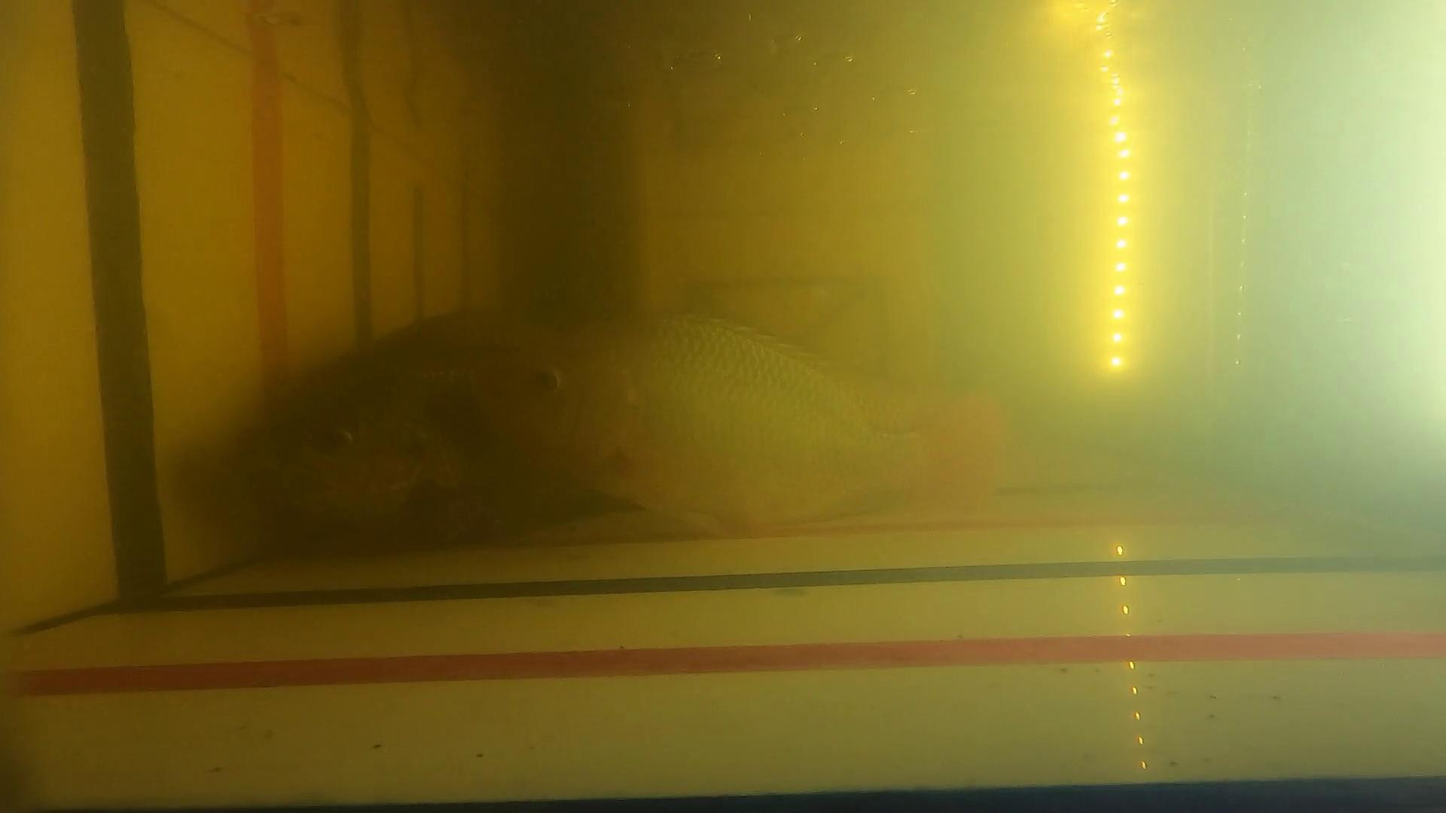Tilapia: (484, 312, 990, 534)
